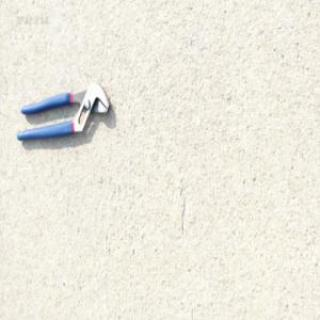Pliertrack_idkeyframe: (14, 80, 111, 142)
